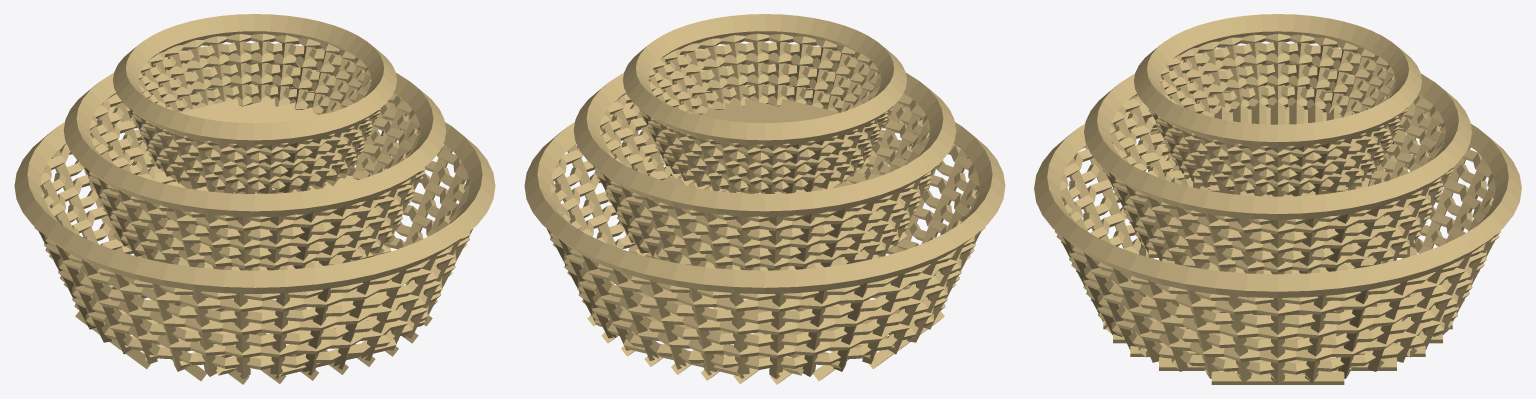
The picture shows the model from 3 angles, left to right: view 1: azimuth 30°, elevation 25°; view 2: azimuth 150°, elevation 25°; view 3: azimuth 270°, elevation 25°; orthographic projection.
Parts seen in each view (by area): view 1: BA-0054 batched; view 2: BA-0054 batched; view 3: BA-0054 batched.
Boxes of the visible parts, x1,y1,x2,y2 form: BA-0054 batched: [14, 14, 495, 384]; BA-0054 batched: [524, 14, 1005, 384]; BA-0054 batched: [1034, 14, 1521, 384].
Bounding box in the file's own units: 0.782 × 0.435 × 0.782.
